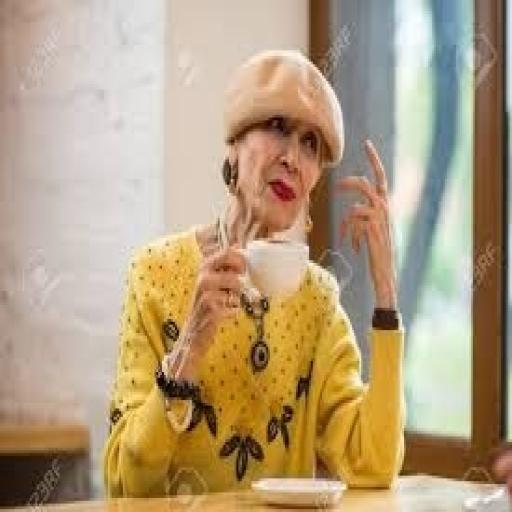drinking: (102, 45, 406, 498)
